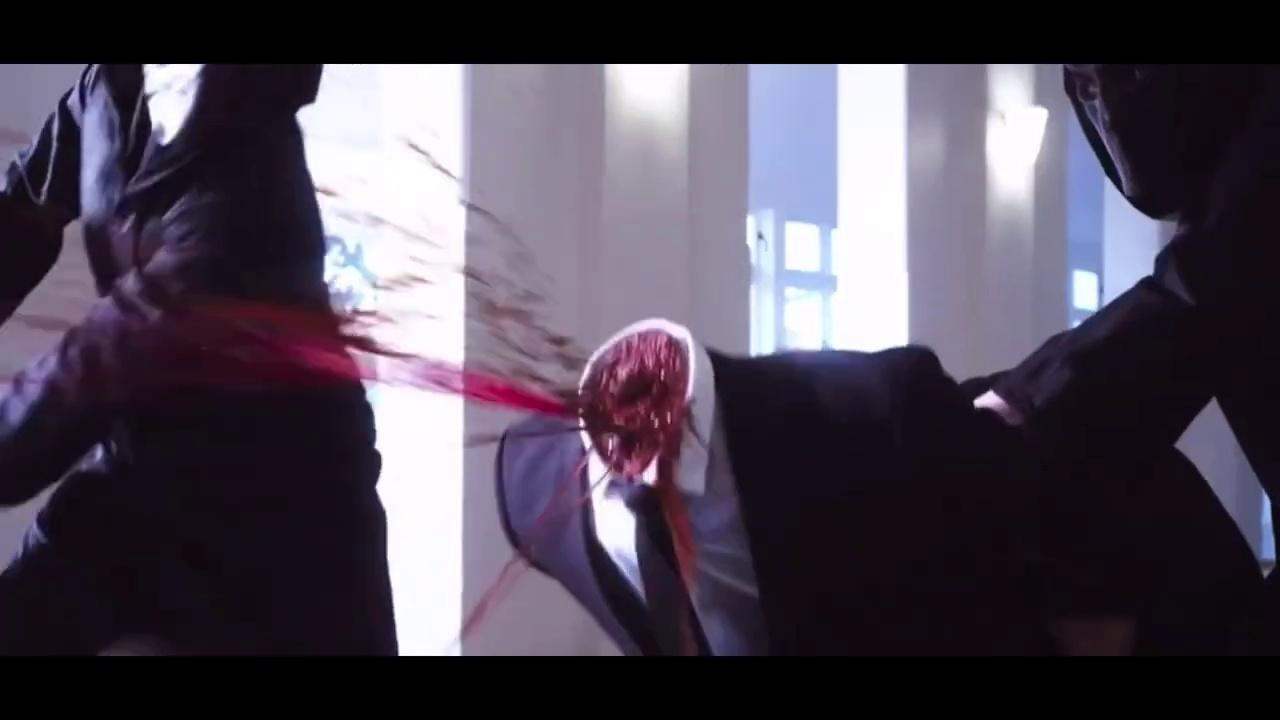Fire: (199, 176, 700, 607), (464, 444, 610, 633), (392, 134, 545, 302), (388, 274, 438, 289)
